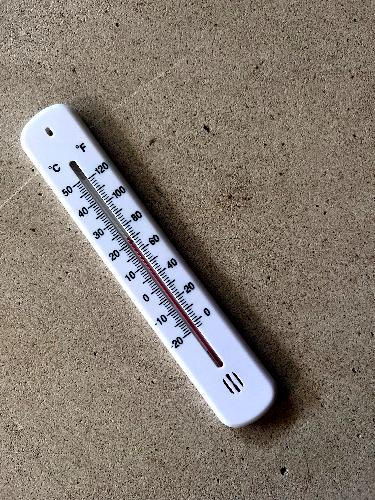thermo: (15, 94, 281, 431)
